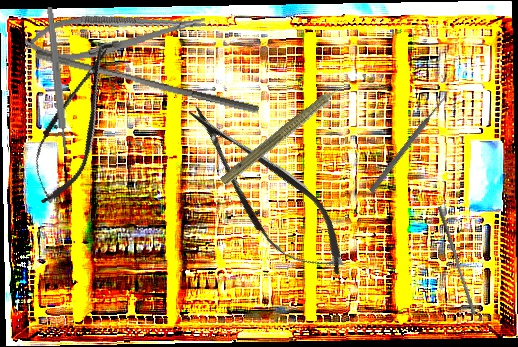Handpiece: (218, 74, 356, 191)
Micro Scissor: (165, 85, 366, 297), (19, 37, 128, 213)
Needle Holder: (22, 1, 209, 67)
Pusher: (33, 49, 262, 114), (368, 93, 449, 195), (432, 205, 481, 316)
Scalpel Handle: (45, 6, 70, 154)
